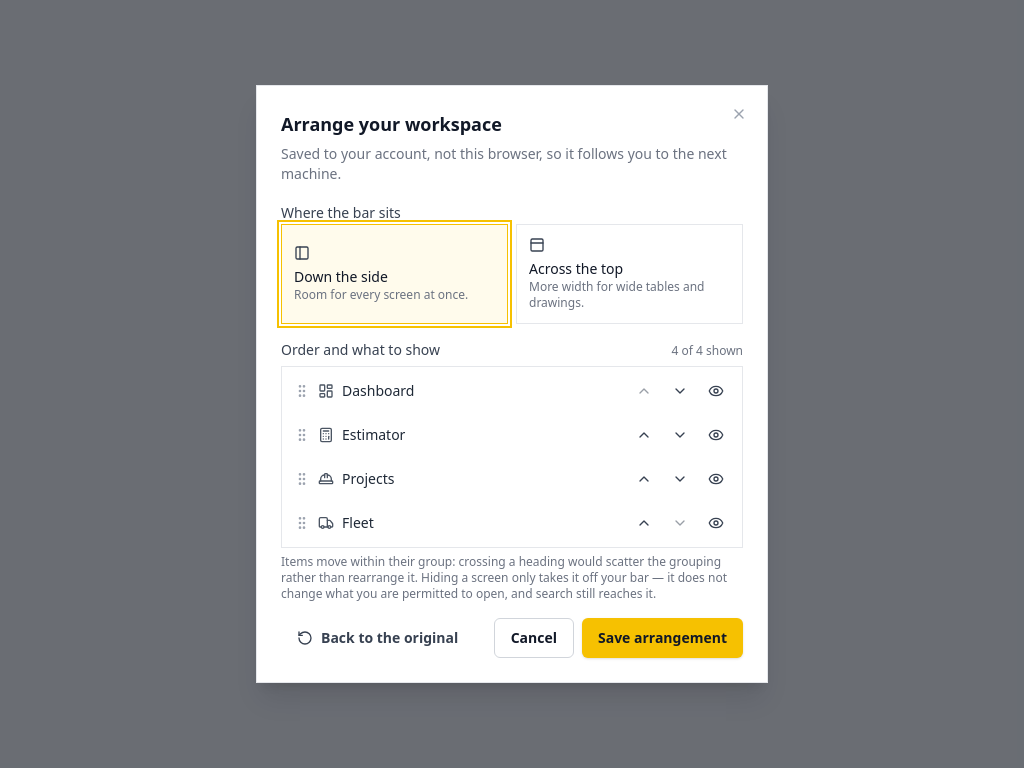
the arrange dialog › says a save failed instead of closing as though it worked
Step 1. Click the button "Save arrangement" → (662, 638), box top-left (582, 618), bottom-right (743, 658)
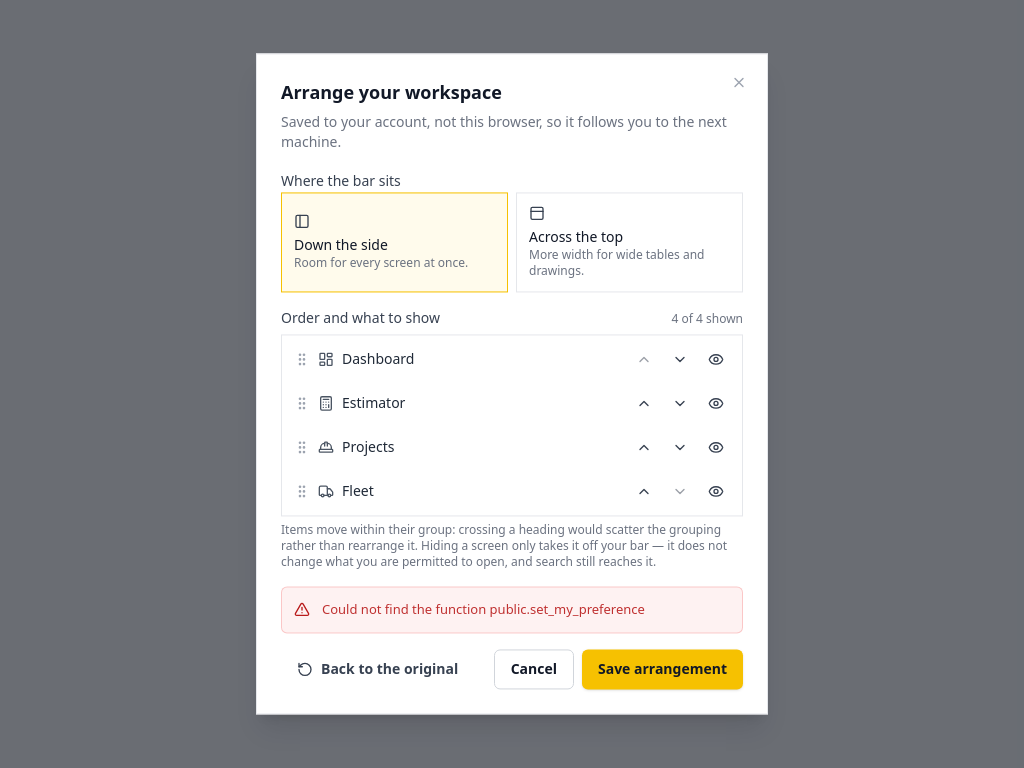
Expected: the text "Could not find the function public.set_my_preference" is shown, top-left (322, 599), bottom-right (645, 620)
